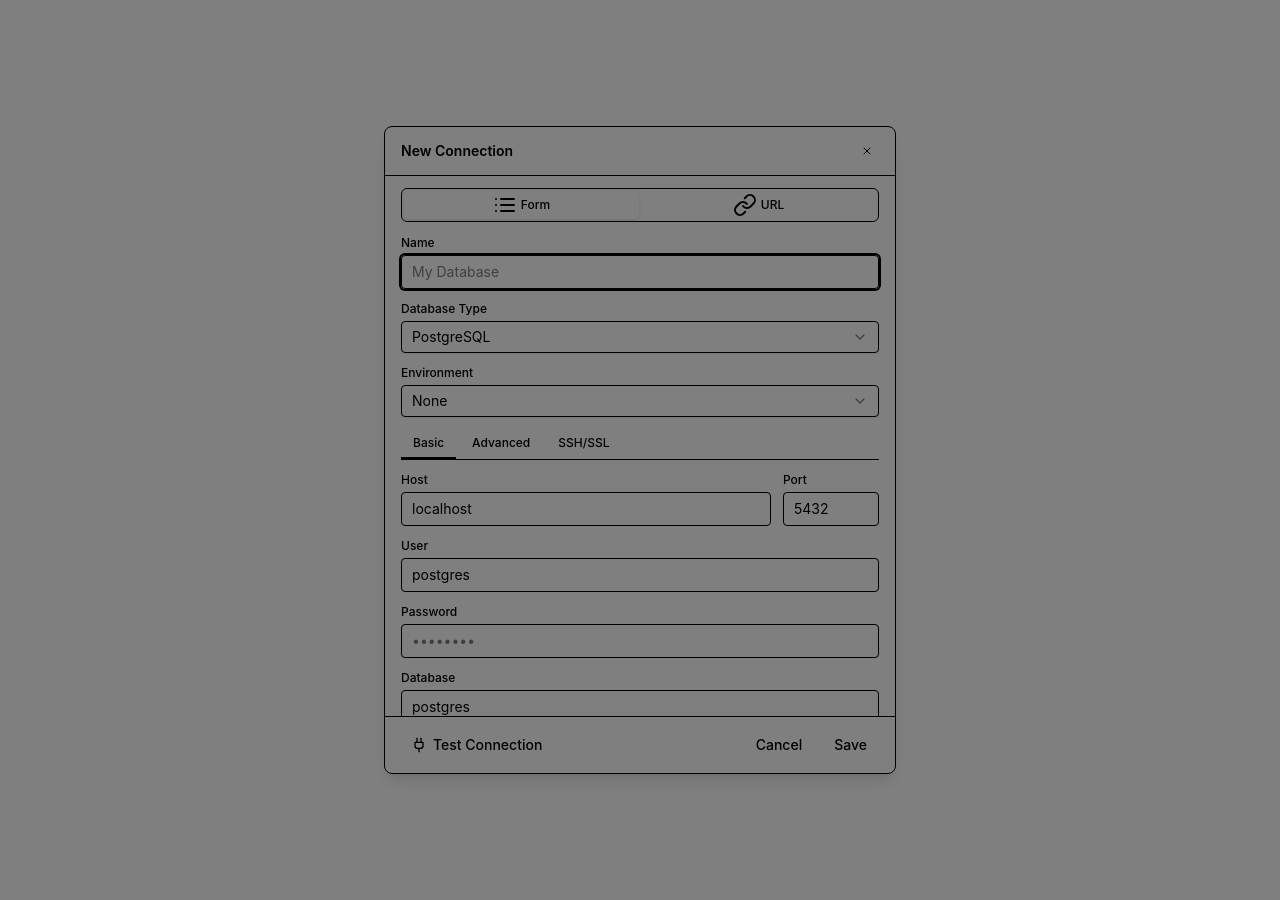
ConnectionDialog › shows error when name is empty on save
Click the button "Save".
click(851, 745)  # box [822,729,879,761]
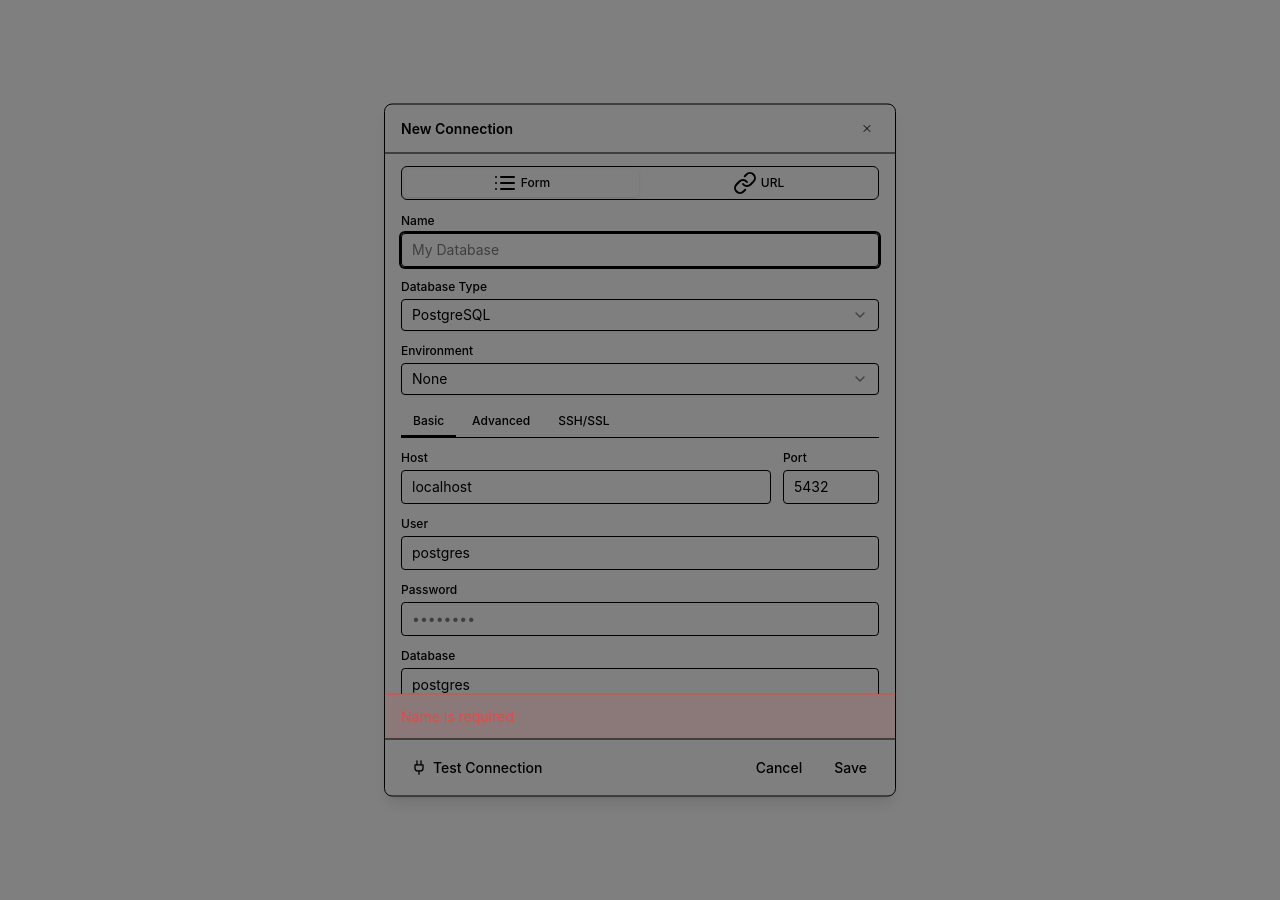
Result: the message reads "Name is required" at [401,708,514,724]
